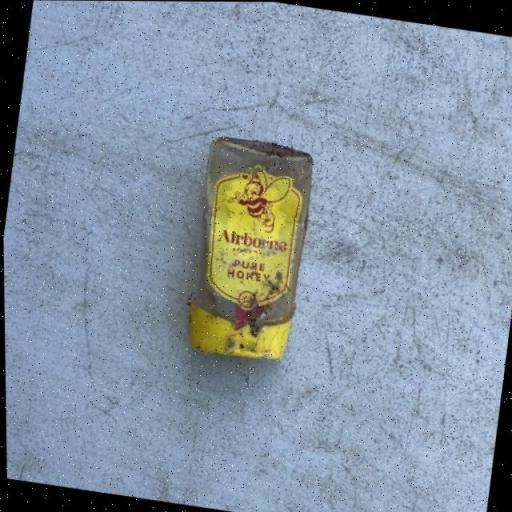plastic: (179, 132, 318, 366)
